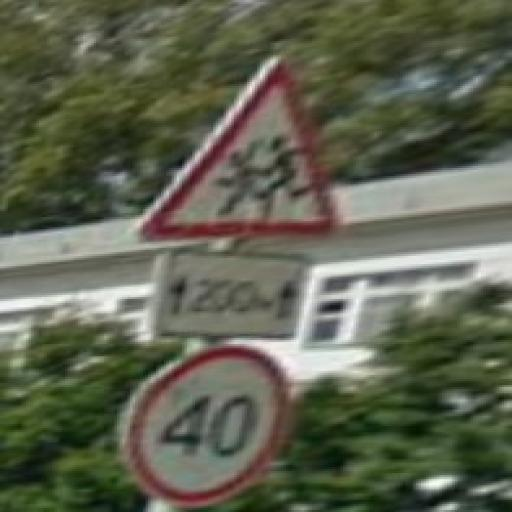traffic_sign: (131, 56, 341, 247), (128, 345, 295, 507)
